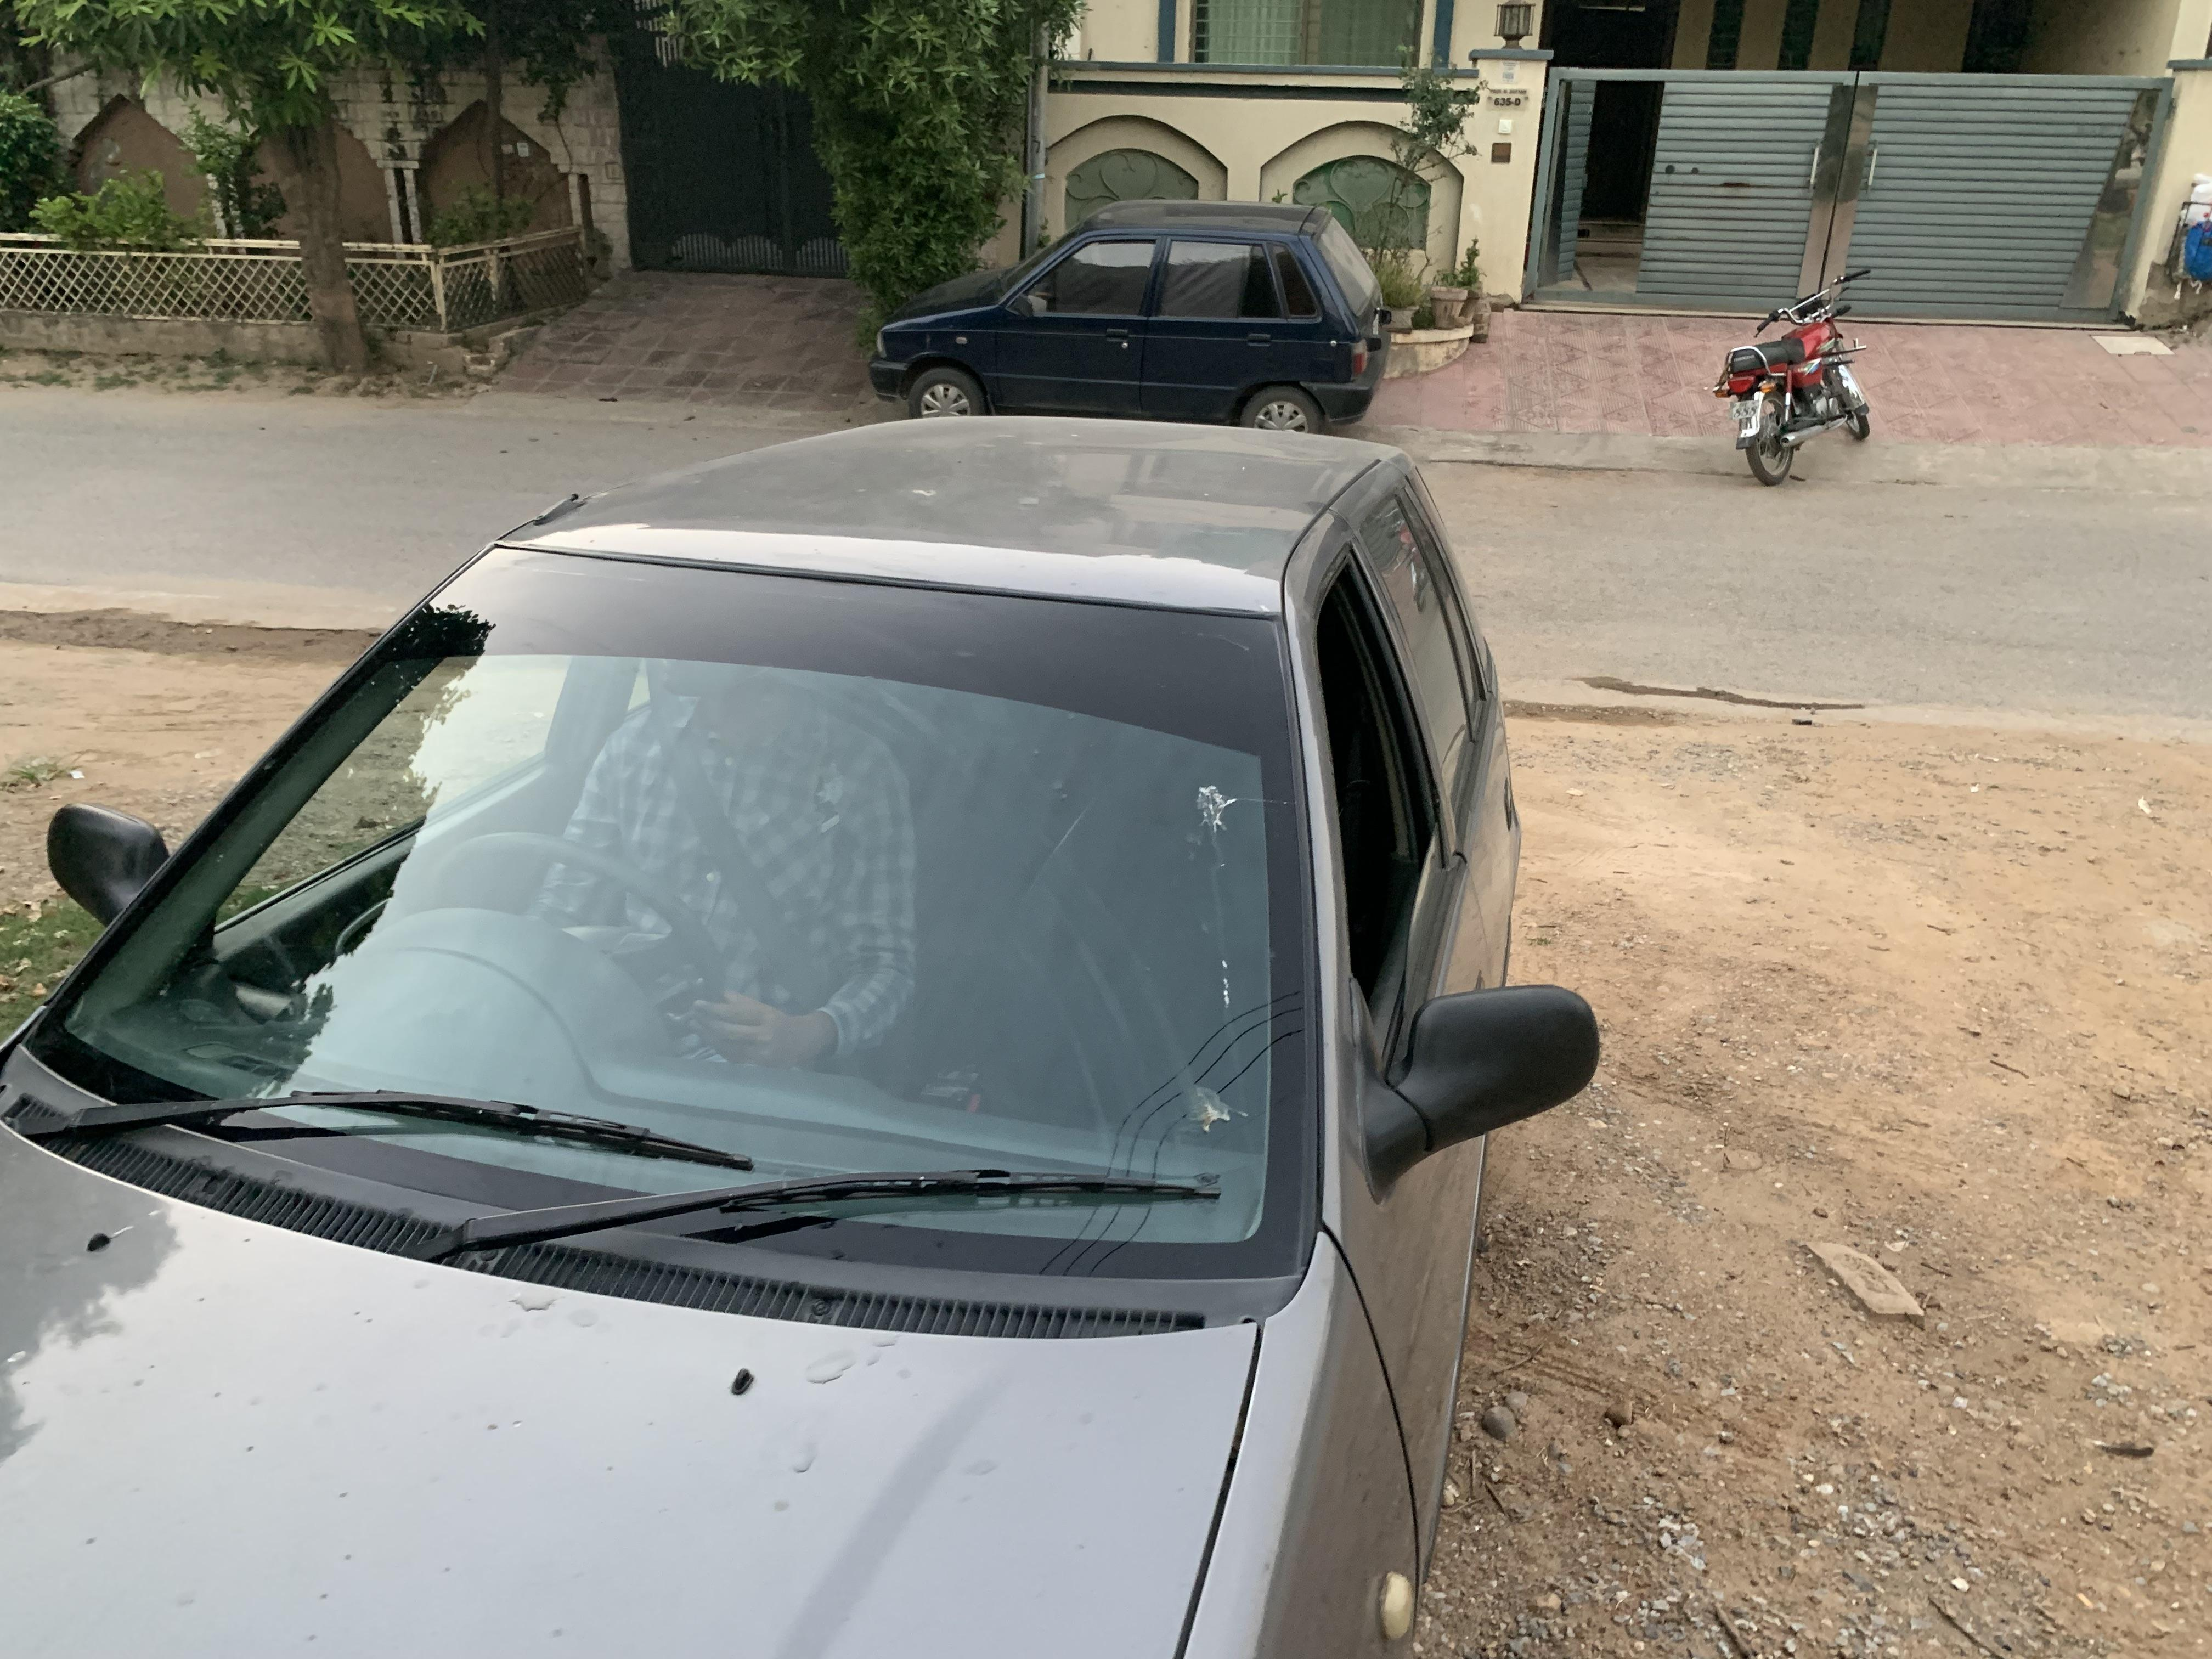windshield: (7, 521, 1306, 1284)
